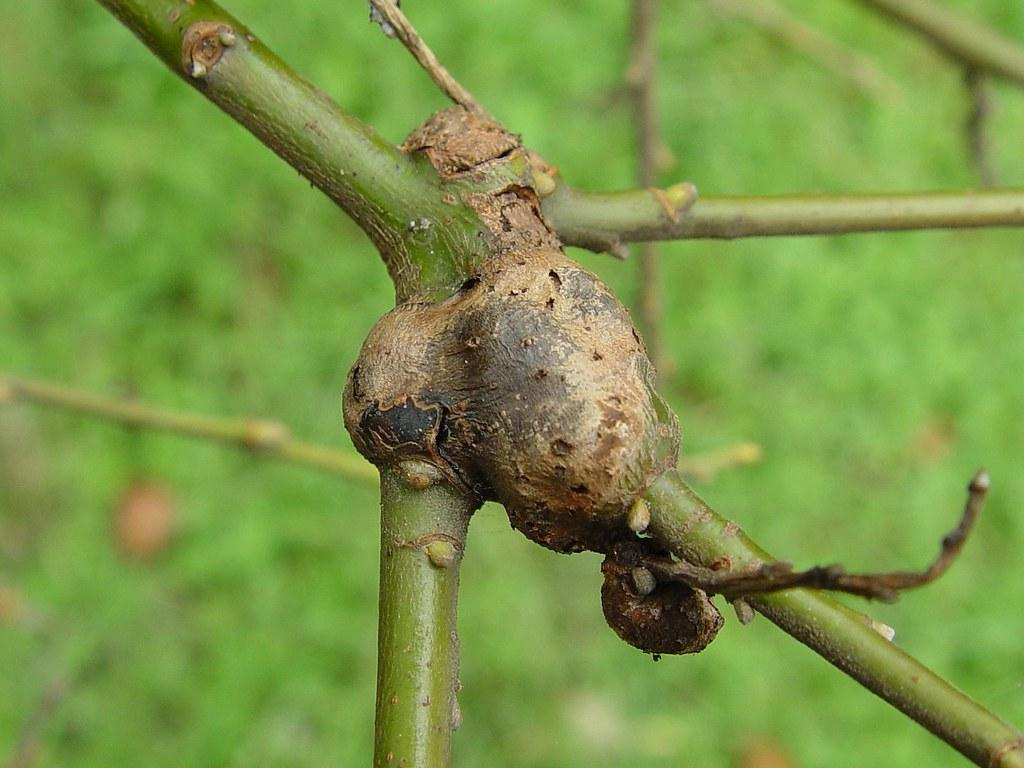kap: (343, 182, 721, 654), (404, 108, 528, 179)
